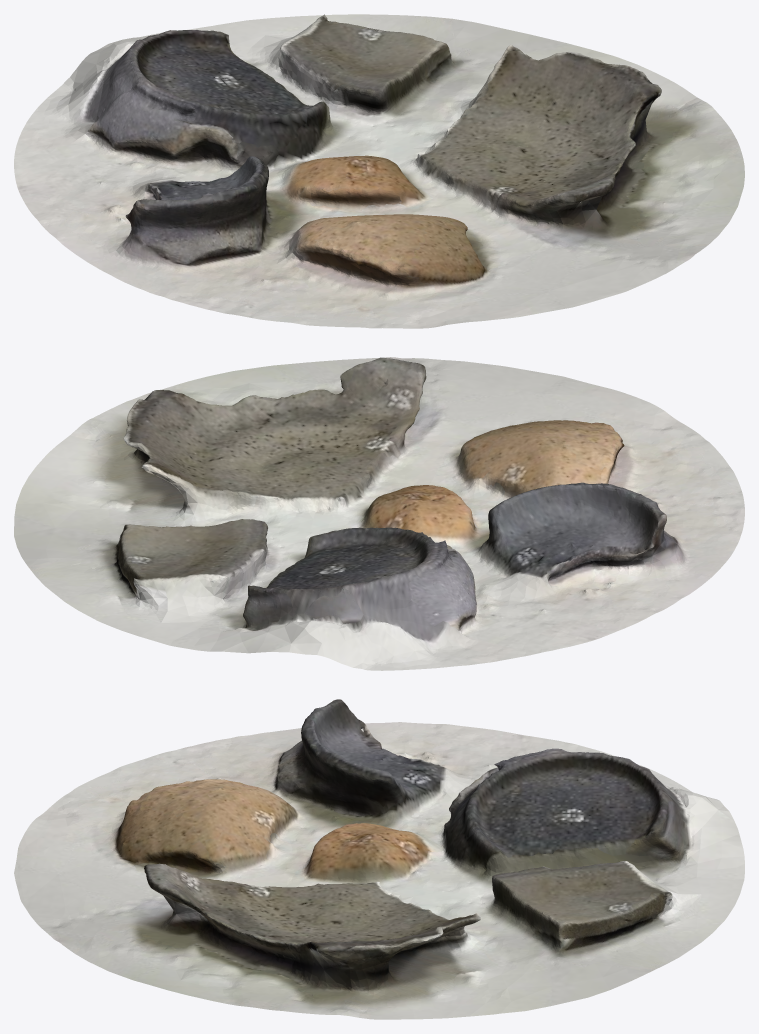
File: model04_small.glb
The picture shows the model from 3 angles, top to bottom: view 1: azimuth 30°, elevation 25°; view 2: azimuth 150°, elevation 25°; view 3: azimuth 270°, elevation 25°; orthographic projection. The views are drawn at different scales.
Parts seen in each view (by area): view 1: mesh; view 2: mesh; view 3: mesh.
Boxes of the visible parts, x1,y1,x2,y2 form: mesh: (14, 14, 744, 328); mesh: (14, 357, 744, 670); mesh: (14, 699, 744, 1019).
Size of the model in its own units: 0.3058 by 0.0301 by 0.3182.
Materials: 1 (1 with a texture image).
